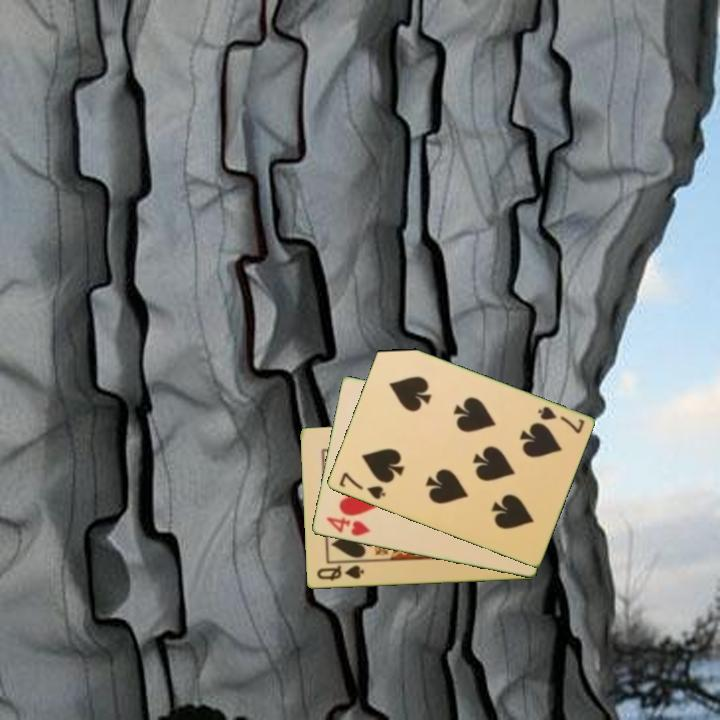4h: (323, 514, 373, 539)
7s: (534, 403, 587, 437), (335, 469, 388, 502)
Qs: (313, 562, 366, 584)
